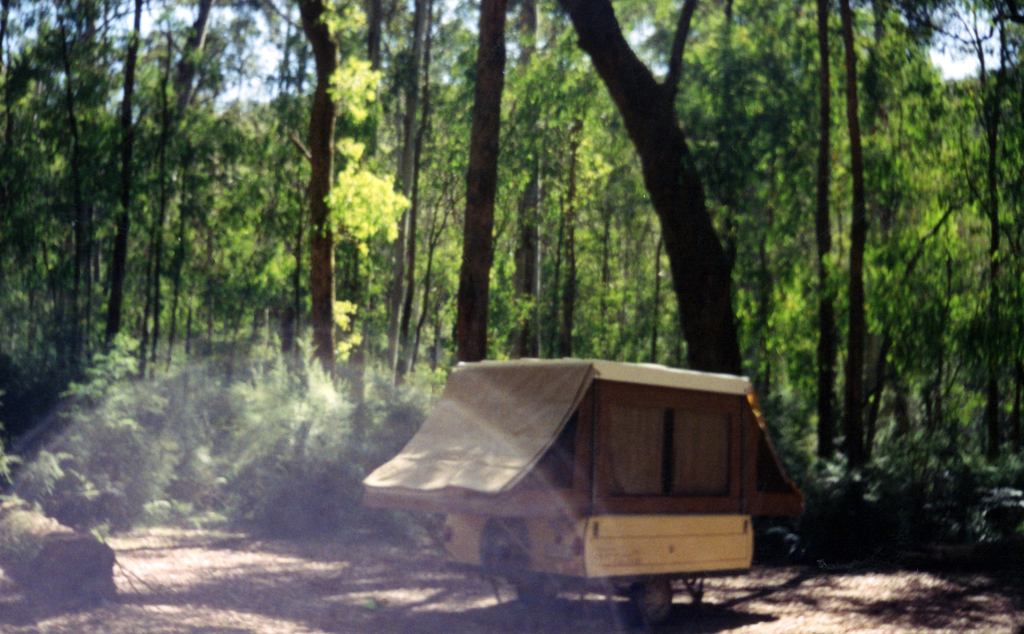Tree: (0, 0, 1024, 533)
